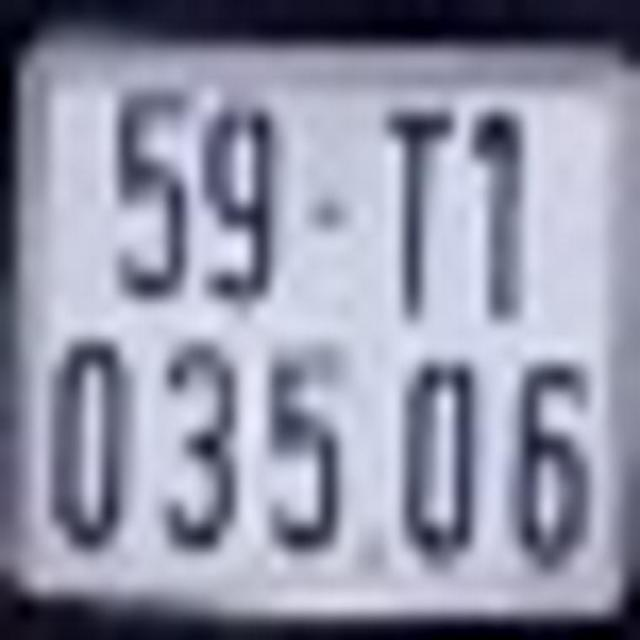0: (52, 336, 126, 556), (407, 342, 482, 558)
1: (464, 103, 536, 324)
3: (154, 345, 247, 553)
5: (277, 336, 346, 546), (116, 82, 184, 290)
6: (521, 356, 595, 591)
9: (202, 91, 273, 304)
T: (382, 97, 457, 321)
